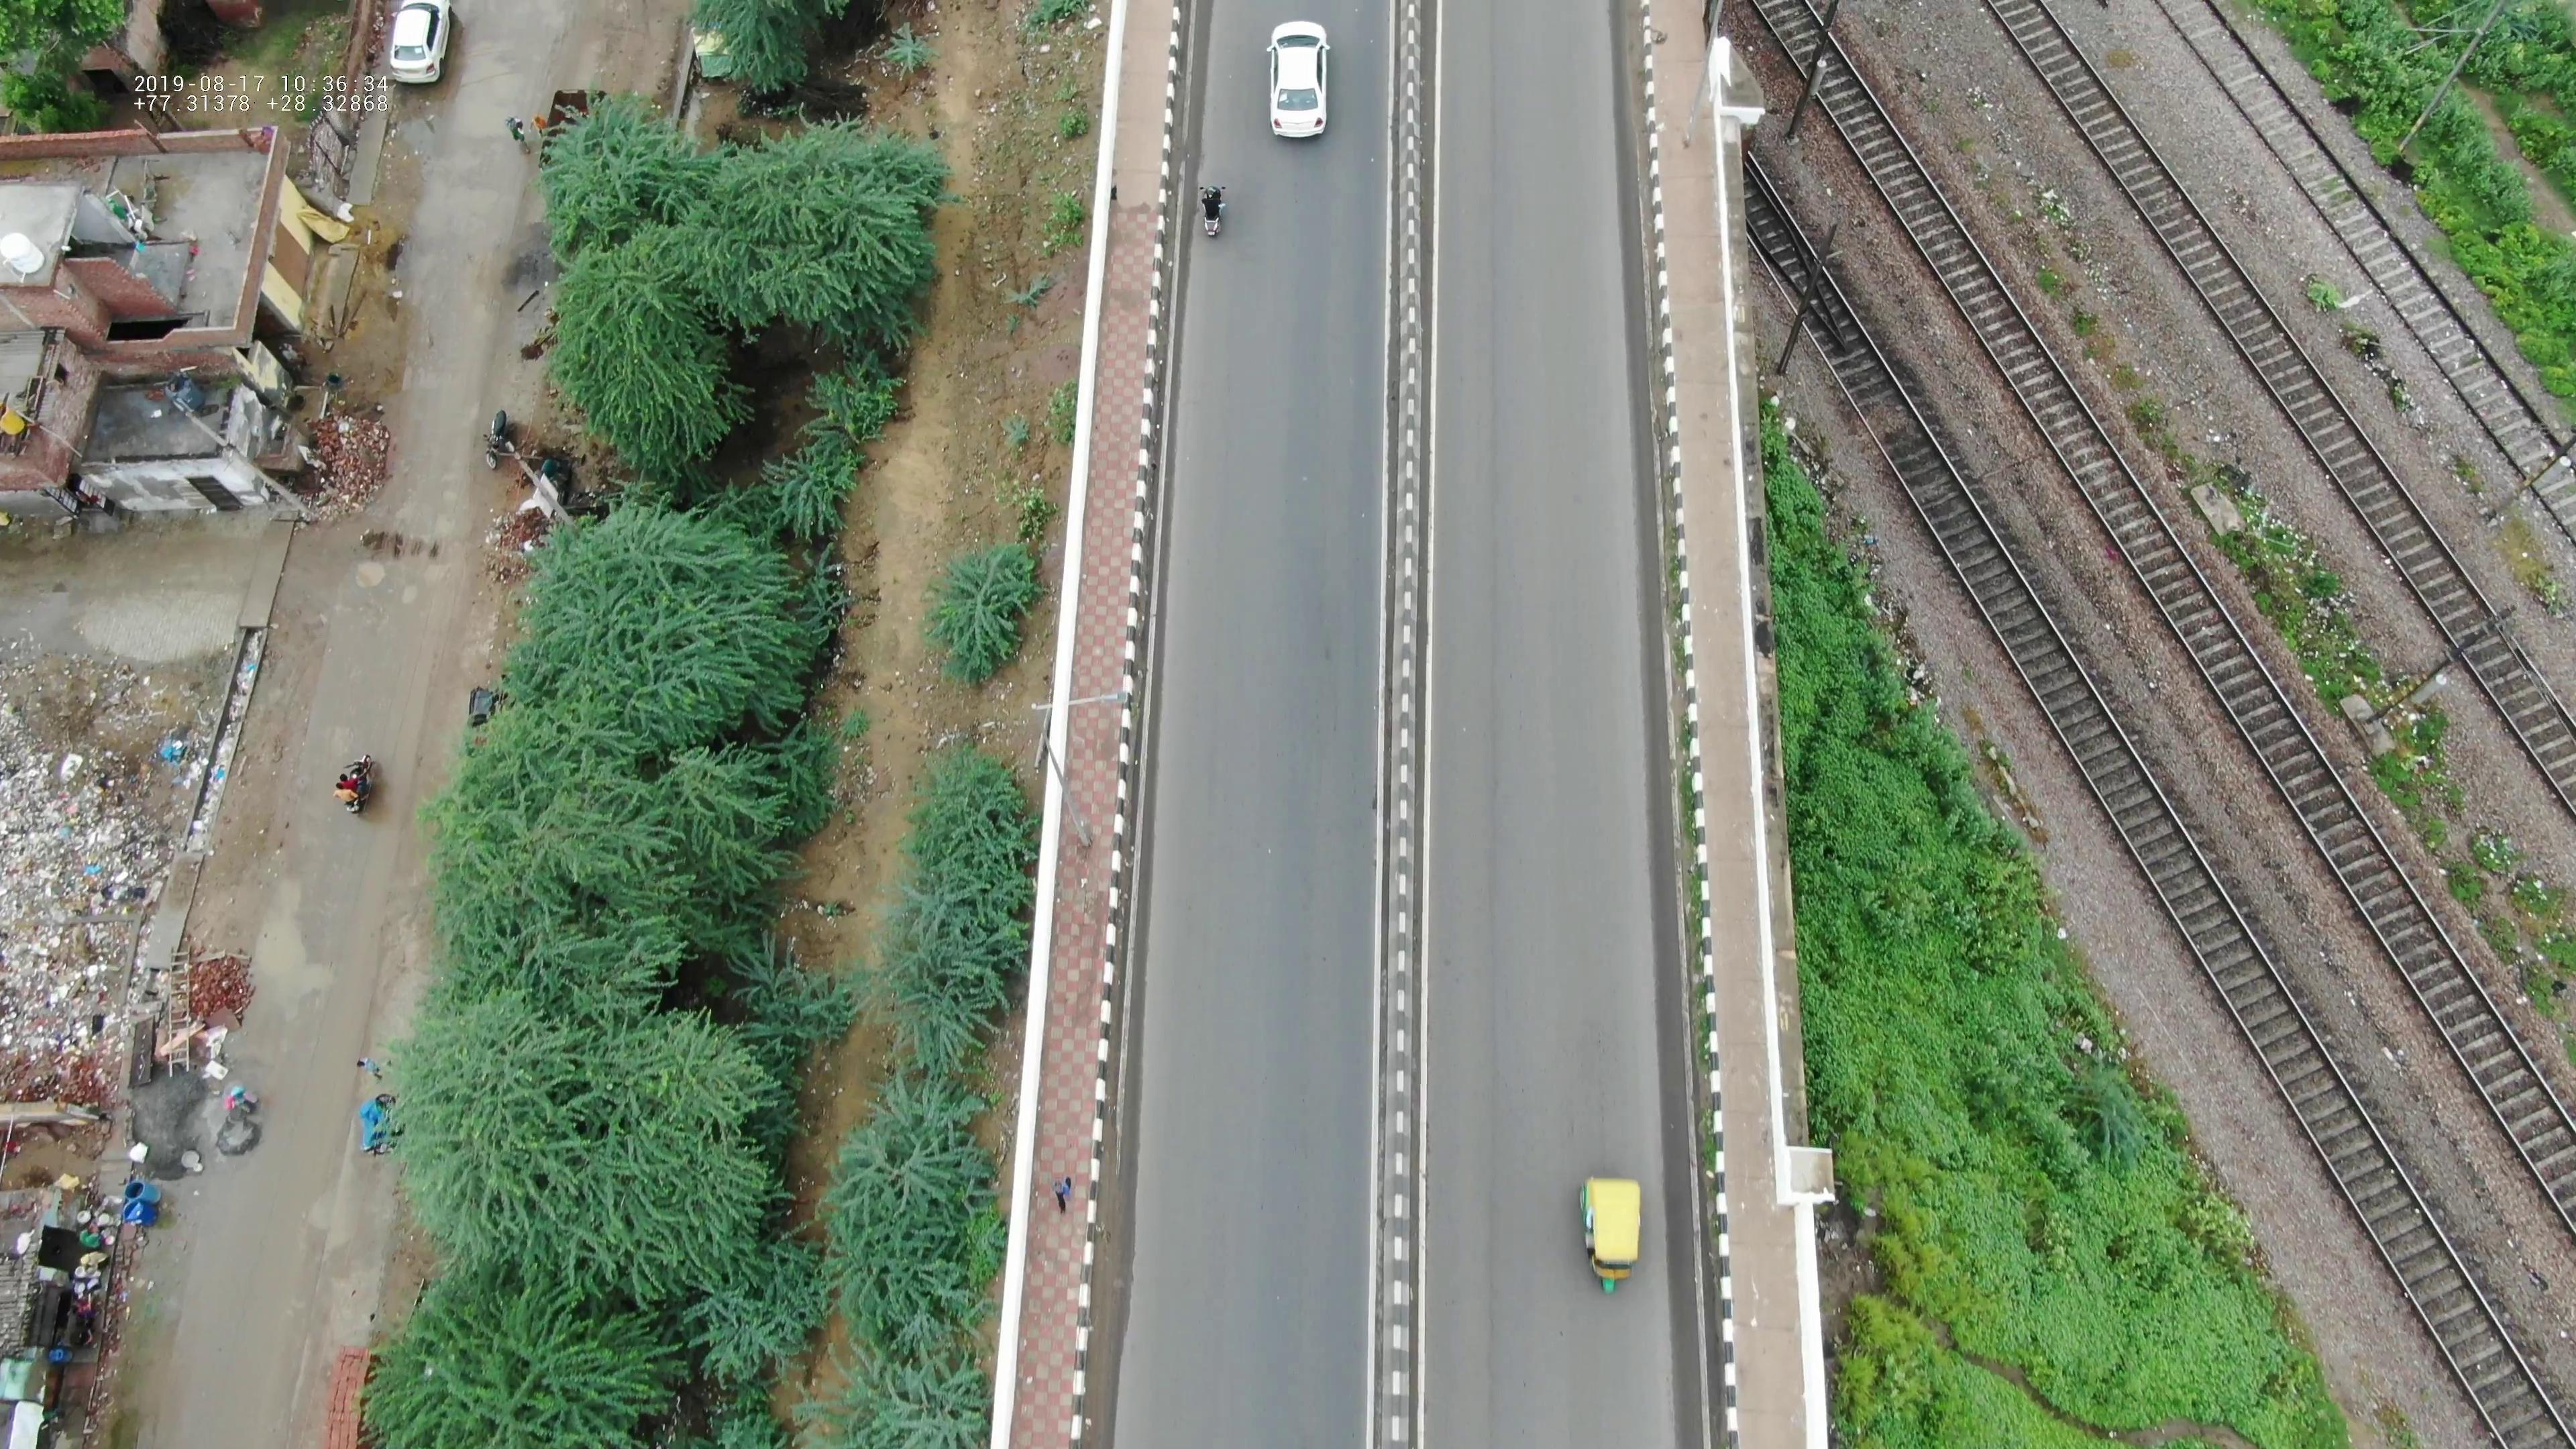Mud_Heaps: (313, 410, 391, 494), (191, 955, 260, 1014)
Road_side_garbage: (4, 725, 134, 1051)
